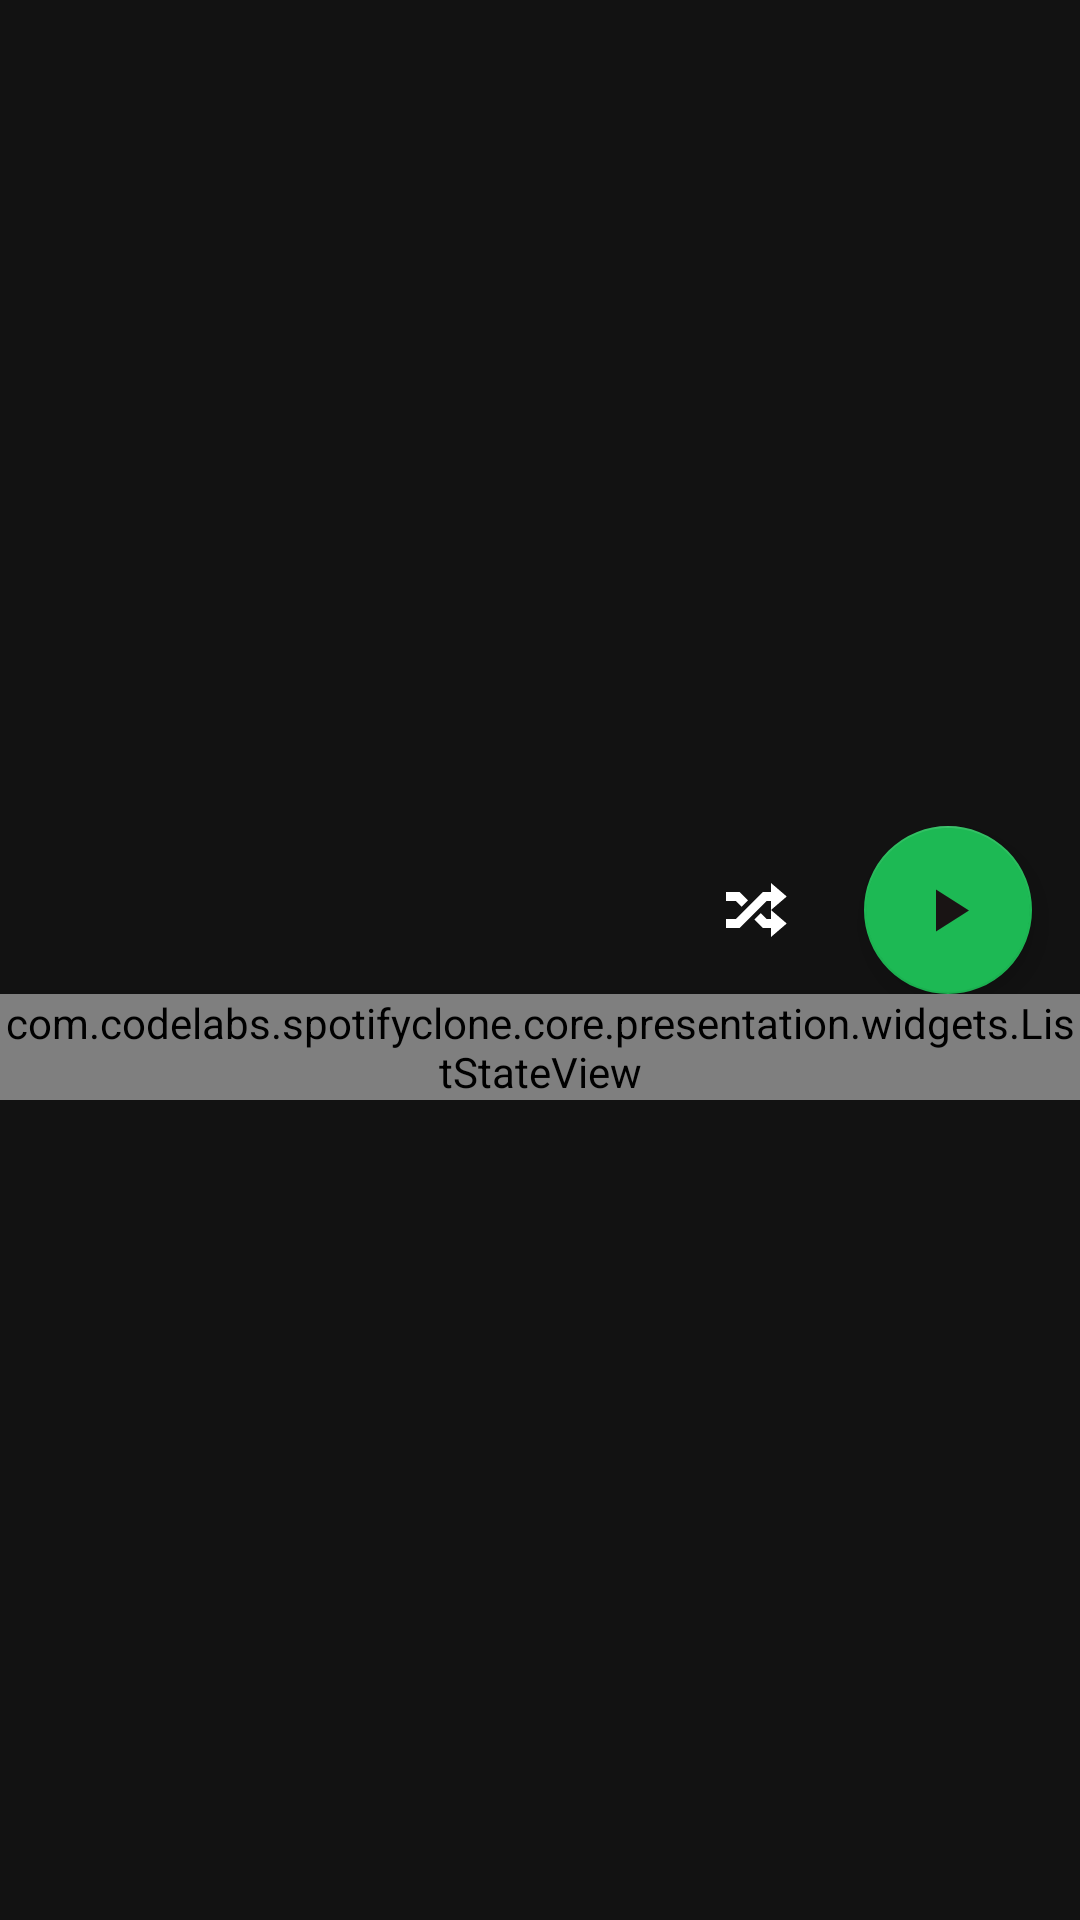

Where to tap for icons on this 1080 x 1920 app screen, as [x,y]:
play: [948,910]
shuffle: [756,910]
